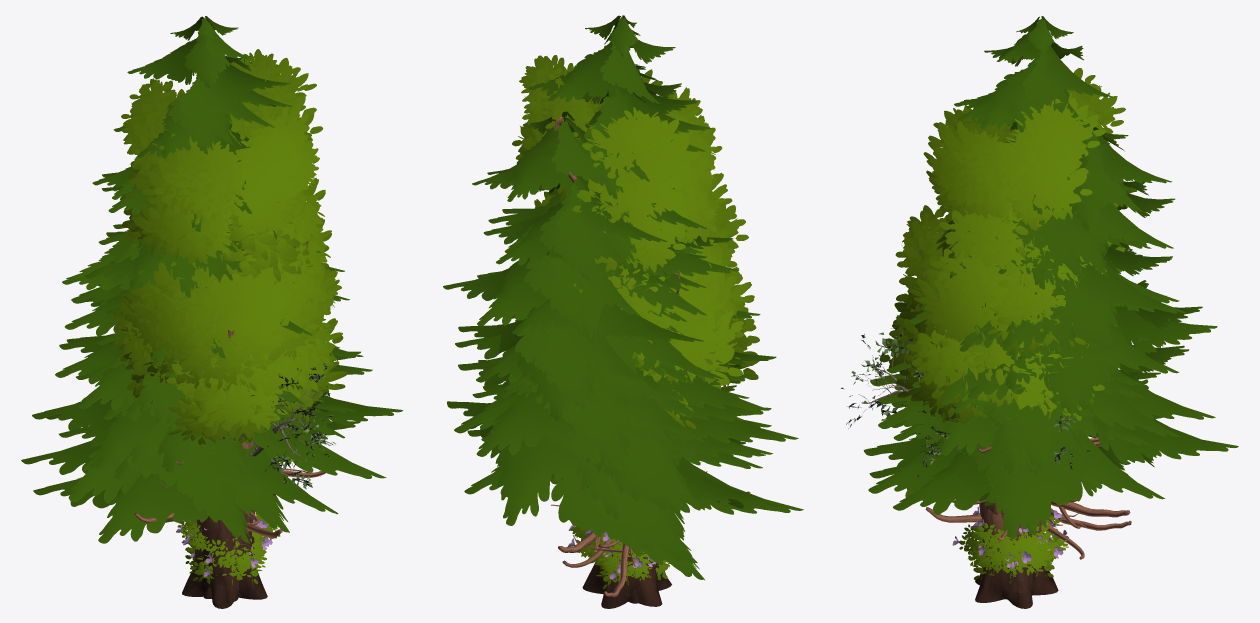
Rendered from trees.glb.
3 renders of one model, left to right at view 1: azimuth 30°, elevation 25°; view 2: azimuth 150°, elevation 25°; view 3: azimuth 270°, elevation 25°, orthographic. The views are drawn at different scales.
Visible parts, largest first — view 1: common3, pine4, common4, pine5, pine2, common1, common2, bush, pine1, aspen, common5, pine3; view 2: pine5, pine4, common3, common4, pine2, common2, common1, pine1, bush, common5, pine3; view 3: pine5, pine4, common4, common3, common2, pine2, common1, bush, pine1, common5, aspen, pine3.
Part boxes in pixels (x1,y1,x2,y2): common3: (121, 56, 341, 608); pine4: (32, 16, 363, 600); common4: (127, 49, 325, 605); pine5: (21, 115, 402, 601); pine2: (33, 243, 360, 543); common1: (118, 227, 346, 596); common2: (113, 207, 343, 608); bush: (176, 511, 280, 584); pine1: (59, 230, 337, 496); aspen: (212, 363, 335, 489); common5: (123, 236, 323, 597); pine3: (76, 235, 317, 525); pine5: (443, 111, 781, 603); pine4: (454, 15, 798, 603); common3: (540, 63, 748, 606); common4: (512, 55, 722, 608); pine2: (464, 251, 803, 580); common2: (514, 195, 759, 608); common1: (552, 194, 759, 604); pine1: (481, 240, 772, 552); bush: (567, 525, 669, 589); common5: (574, 268, 743, 604); pine3: (498, 270, 749, 567); pine5: (869, 123, 1238, 538); pine4: (870, 16, 1189, 595); common4: (923, 68, 1125, 608); common3: (893, 92, 1123, 608); common2: (879, 196, 1113, 608); pine2: (863, 268, 1165, 535); common1: (889, 218, 1124, 605); bush: (952, 507, 1068, 583); pine1: (891, 260, 1160, 528); common5: (929, 241, 1125, 601); aspen: (841, 327, 1089, 477); pine3: (912, 272, 1149, 559).
Size of the model in its own units: 6.42 by 10.24 by 6.6.
7 materials, 7 textured.
